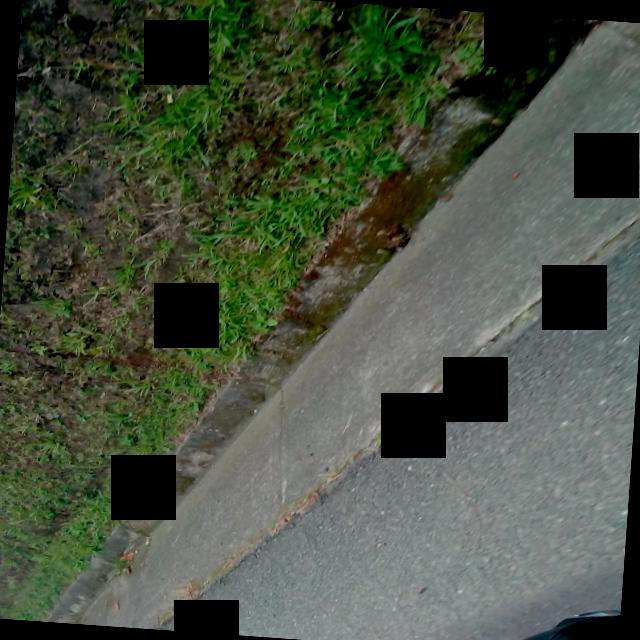DITCH: (48, 0, 640, 640), (50, 0, 640, 640)
